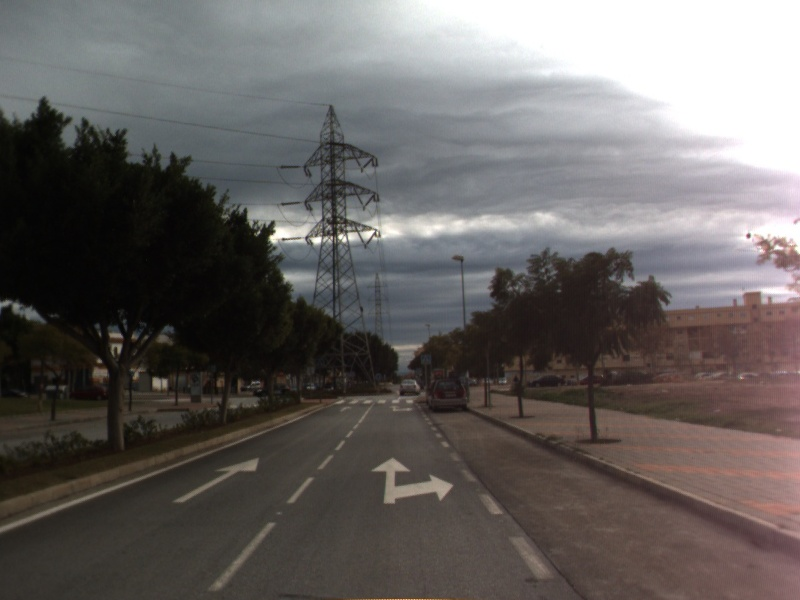STRAIGHT: (170, 456, 261, 504), (337, 404, 354, 414)
STRAIGHT_RIGHT: (369, 455, 456, 506), (387, 403, 415, 413)
